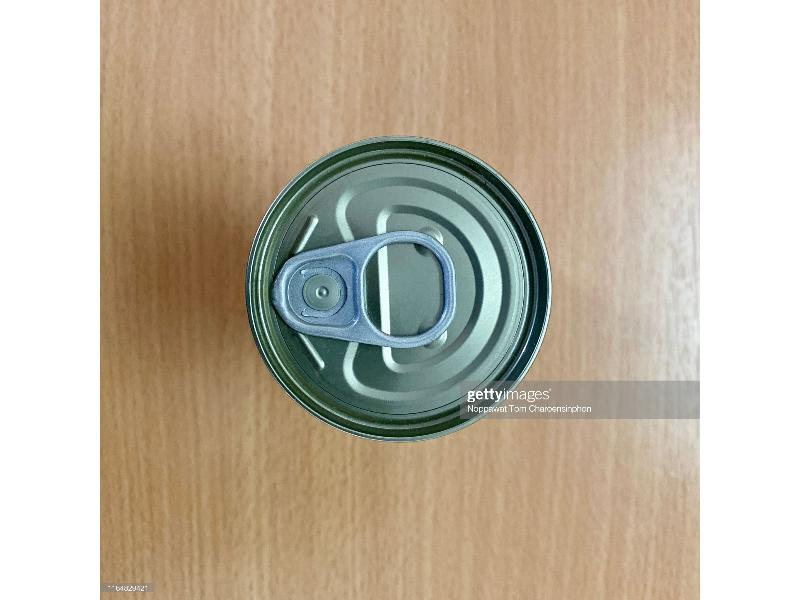can: (235, 124, 561, 456)
